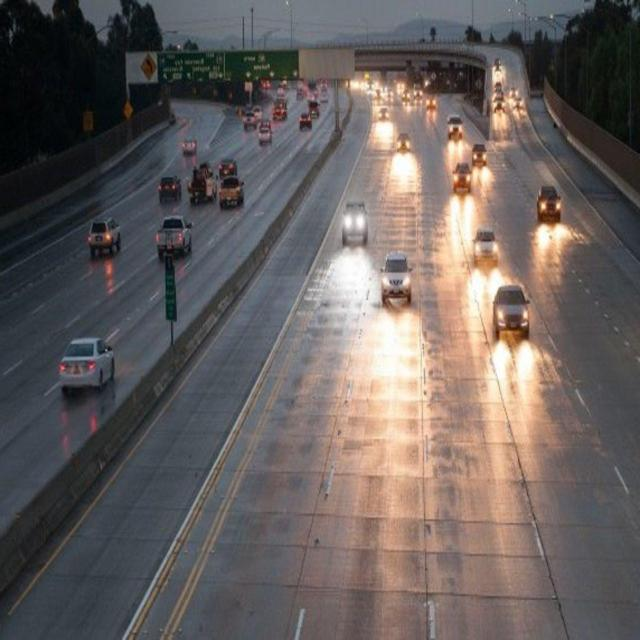Car: (59, 336, 114, 393), (492, 282, 530, 338), (380, 251, 413, 304), (88, 216, 122, 257), (472, 226, 501, 268), (342, 200, 368, 246), (537, 185, 562, 222), (158, 175, 181, 203), (452, 162, 472, 194), (218, 158, 238, 179), (471, 143, 487, 166), (396, 132, 411, 153), (182, 136, 198, 155), (243, 112, 257, 131), (258, 126, 273, 143), (299, 111, 312, 130), (250, 105, 263, 122), (308, 100, 320, 118), (378, 106, 389, 121), (426, 95, 436, 110), (514, 96, 524, 111), (402, 89, 411, 103), (414, 88, 423, 101), (493, 80, 502, 93), (509, 88, 518, 100)
Truck: (156, 216, 193, 260), (187, 160, 218, 206), (218, 174, 244, 210), (272, 96, 288, 120), (492, 92, 506, 113)
Van: (446, 114, 464, 140)
